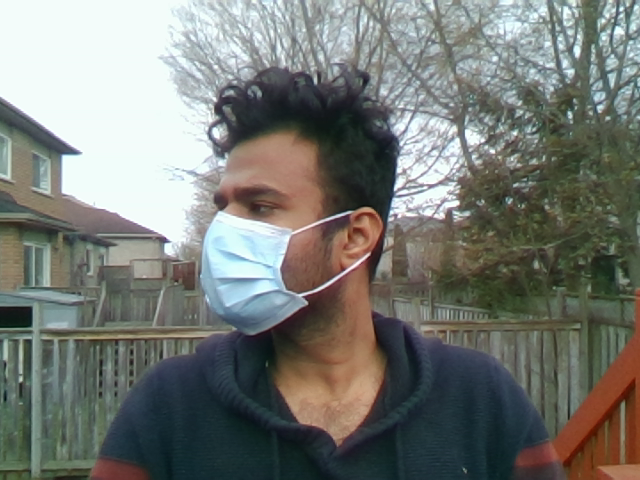Mask: (196, 213, 414, 344)
